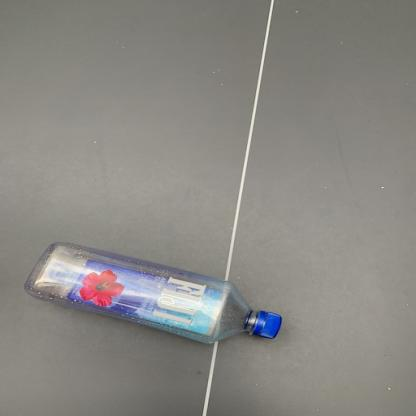trash: (21, 238, 287, 351)
